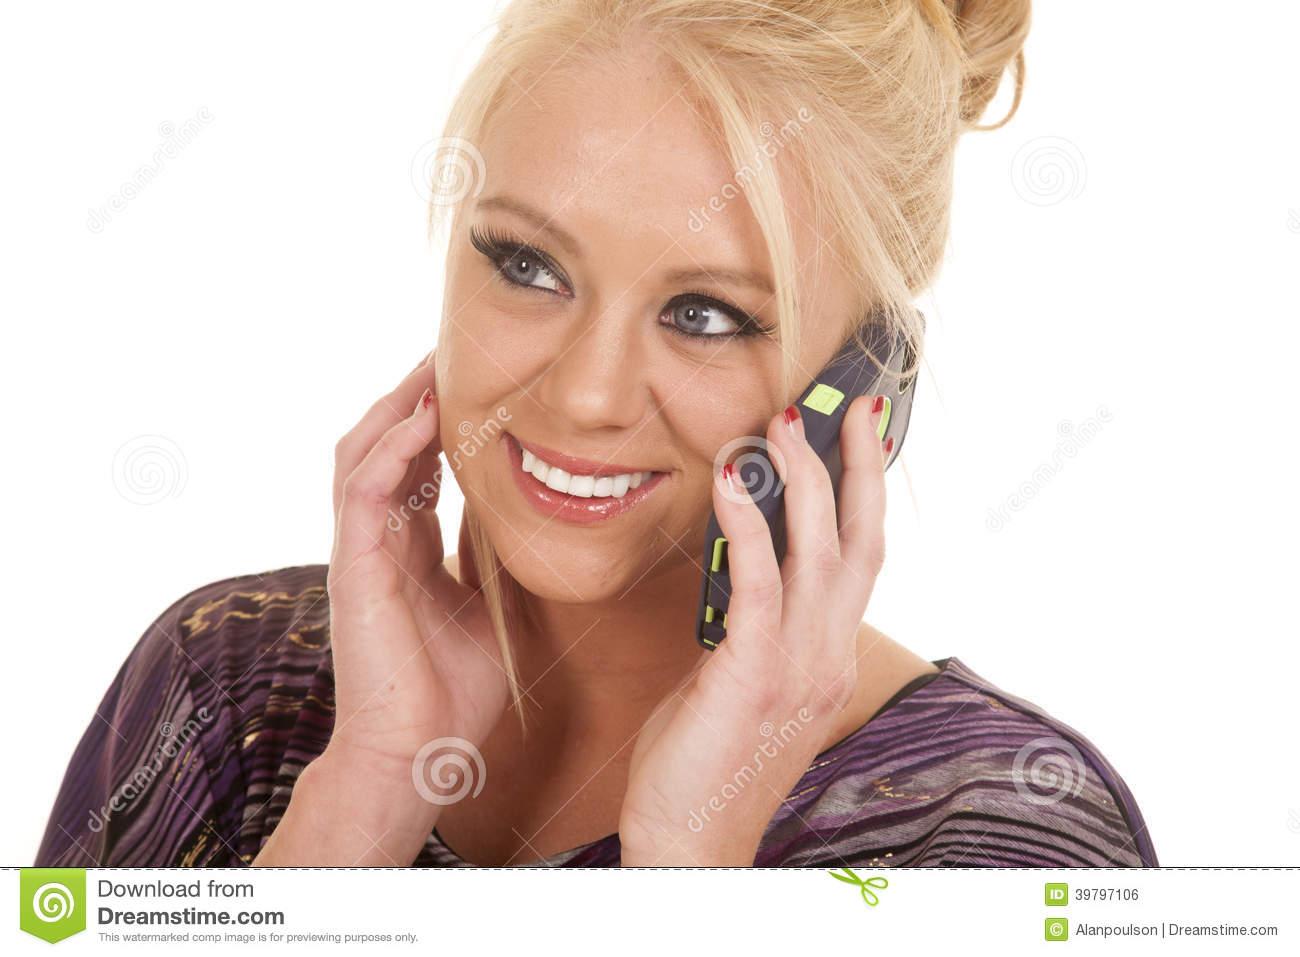phone: (694, 306, 927, 652)
talk: (441, 196, 930, 862)
